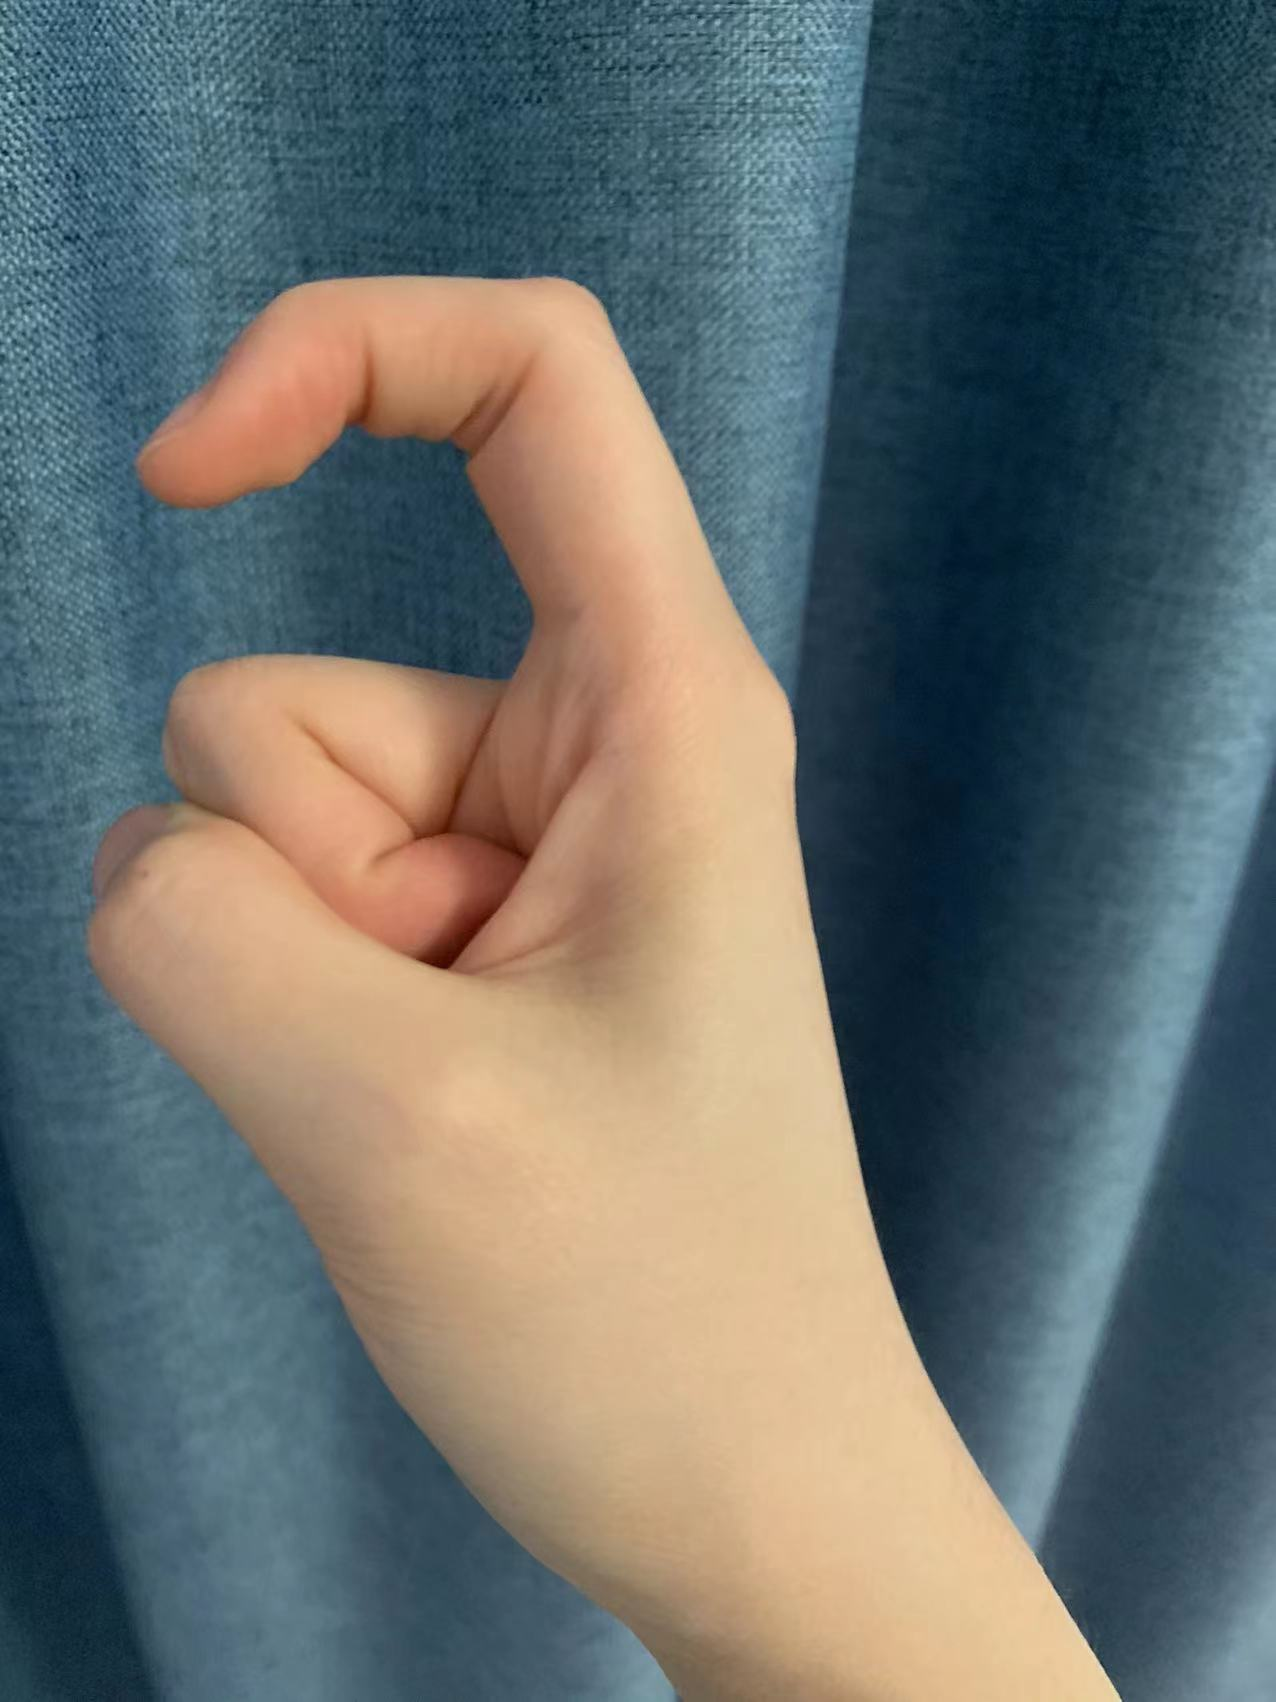anticlockwise: (63, 256, 934, 1644)
